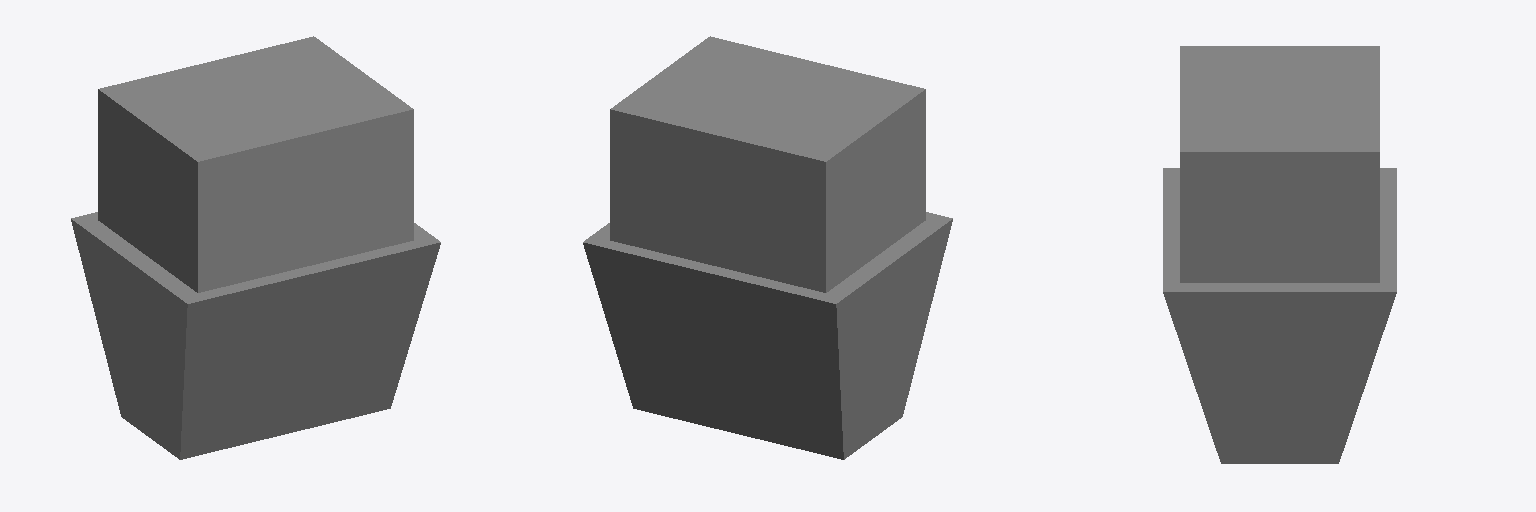
File: papas.obj
3 views of the same model, side by side, from view 1: azimuth 30°, elevation 25°; view 2: azimuth 150°, elevation 25°; view 3: azimuth 270°, elevation 25° (orthographic).
Visible parts, largest first — view 1: papas; view 2: papas; view 3: papas.
Boxes of the visible parts, box(x1,y1,x2,y2) form: papas: box(71, 36, 440, 459); papas: box(583, 36, 952, 459); papas: box(1163, 46, 1396, 463).
Bounding box in the file's own units: 22.83 × 26.97 × 18.25.